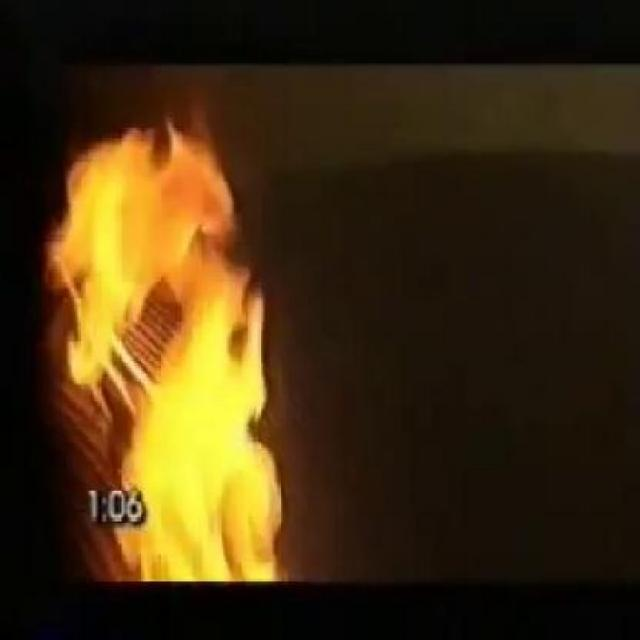fire: (71, 136, 294, 590)
